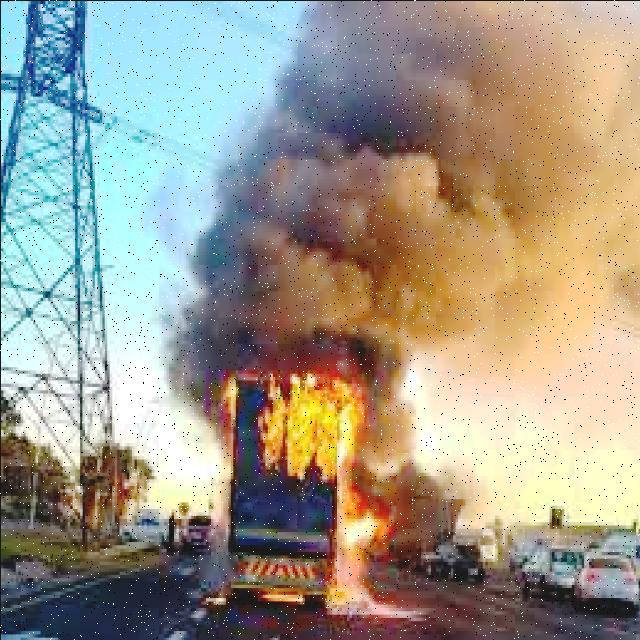api: (221, 358, 394, 612)
